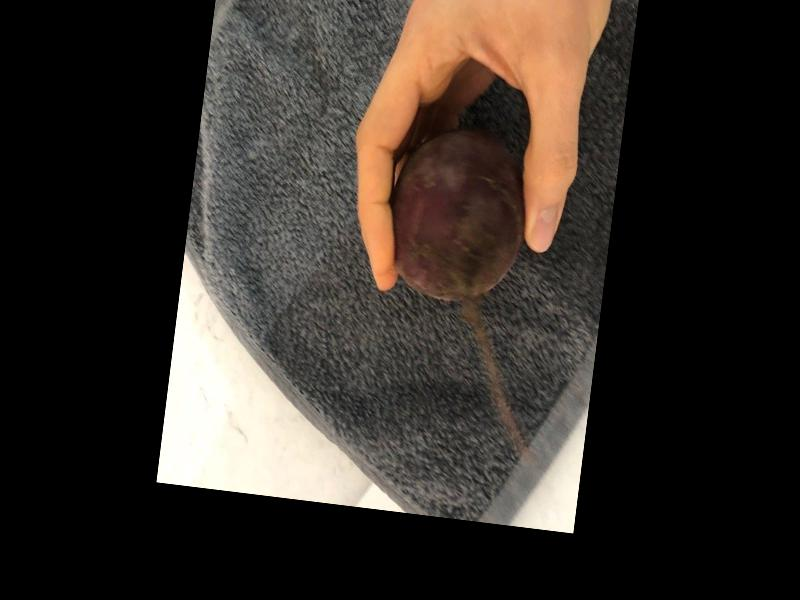Beet: (381, 120, 535, 307)
